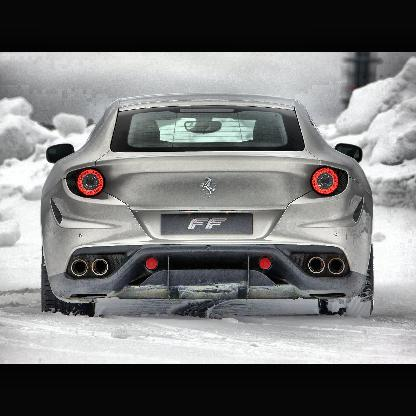Ferrari FF Coupe 2012: (40, 97, 375, 320)
